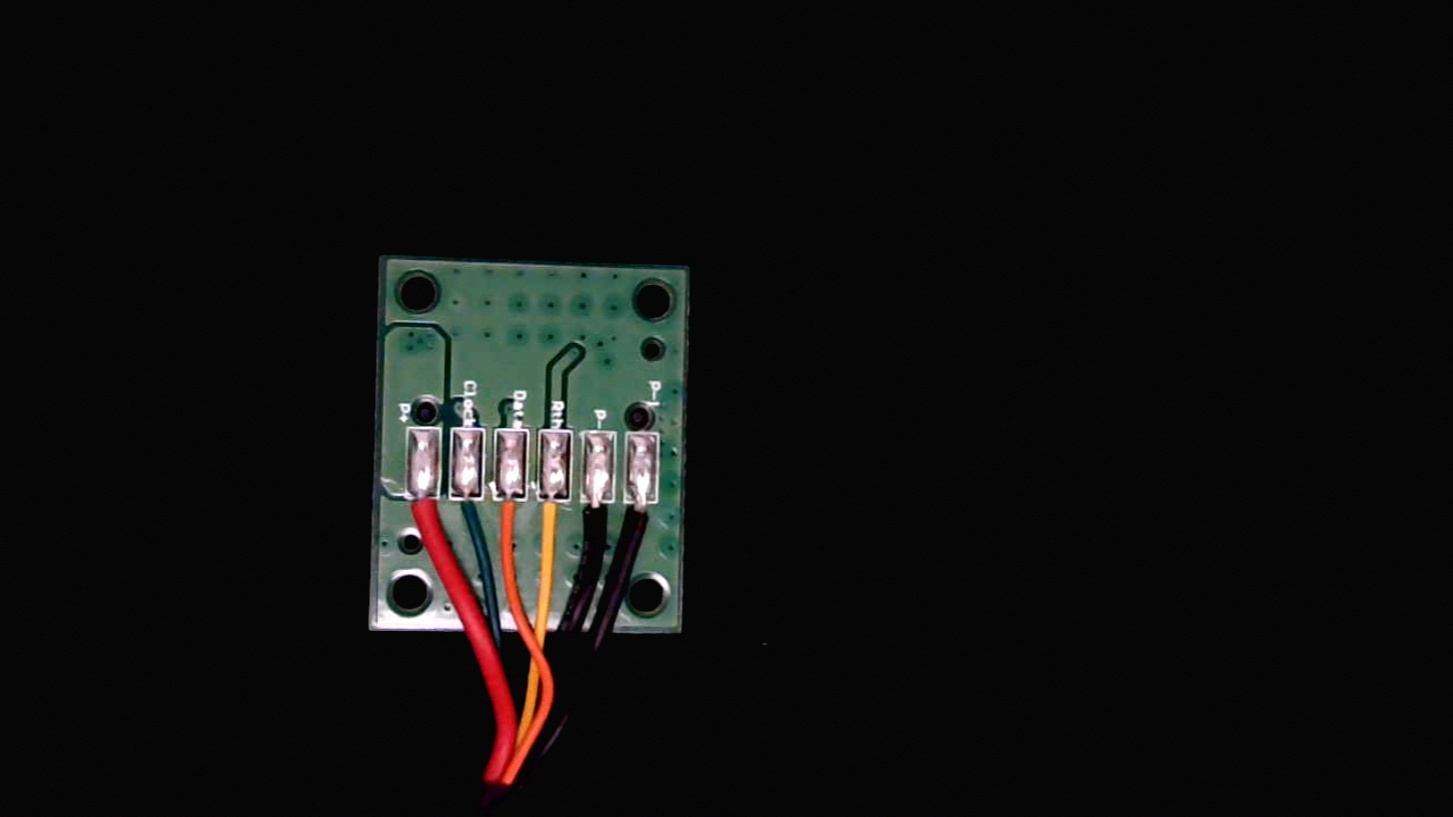Black: (583, 480, 622, 564)
Black1: (628, 484, 666, 561)
Green: (452, 471, 491, 551)
Orange: (494, 480, 531, 563)
Red: (408, 474, 447, 555)
Yellow: (539, 483, 579, 568)
